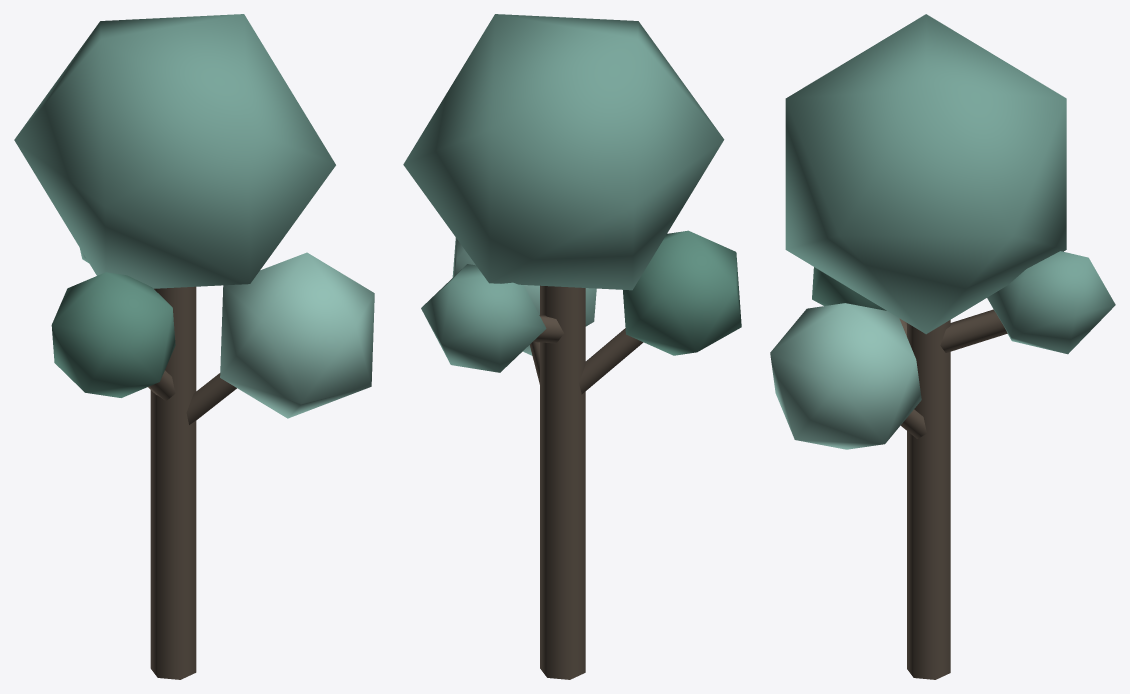
File: RW_HG_Environment_Tree.001.fbx
The picture shows the model from 3 angles, left to right: view 1: azimuth 30°, elevation 25°; view 2: azimuth 150°, elevation 25°; view 3: azimuth 270°, elevation 25°; orthographic projection. The views are drawn at different scales.
Parts seen in each view (by area): view 1: RW_HG_Environment_Tree.001; view 2: RW_HG_Environment_Tree.001; view 3: RW_HG_Environment_Tree.001.
Boxes of the visible parts, box(x1,y1,x2,y2) form: RW_HG_Environment_Tree.001: box(14, 14, 374, 679); RW_HG_Environment_Tree.001: box(403, 14, 741, 679); RW_HG_Environment_Tree.001: box(770, 14, 1115, 679).
Bounding box in the file's own units: 0.8157 × 1.68 × 0.8456.
